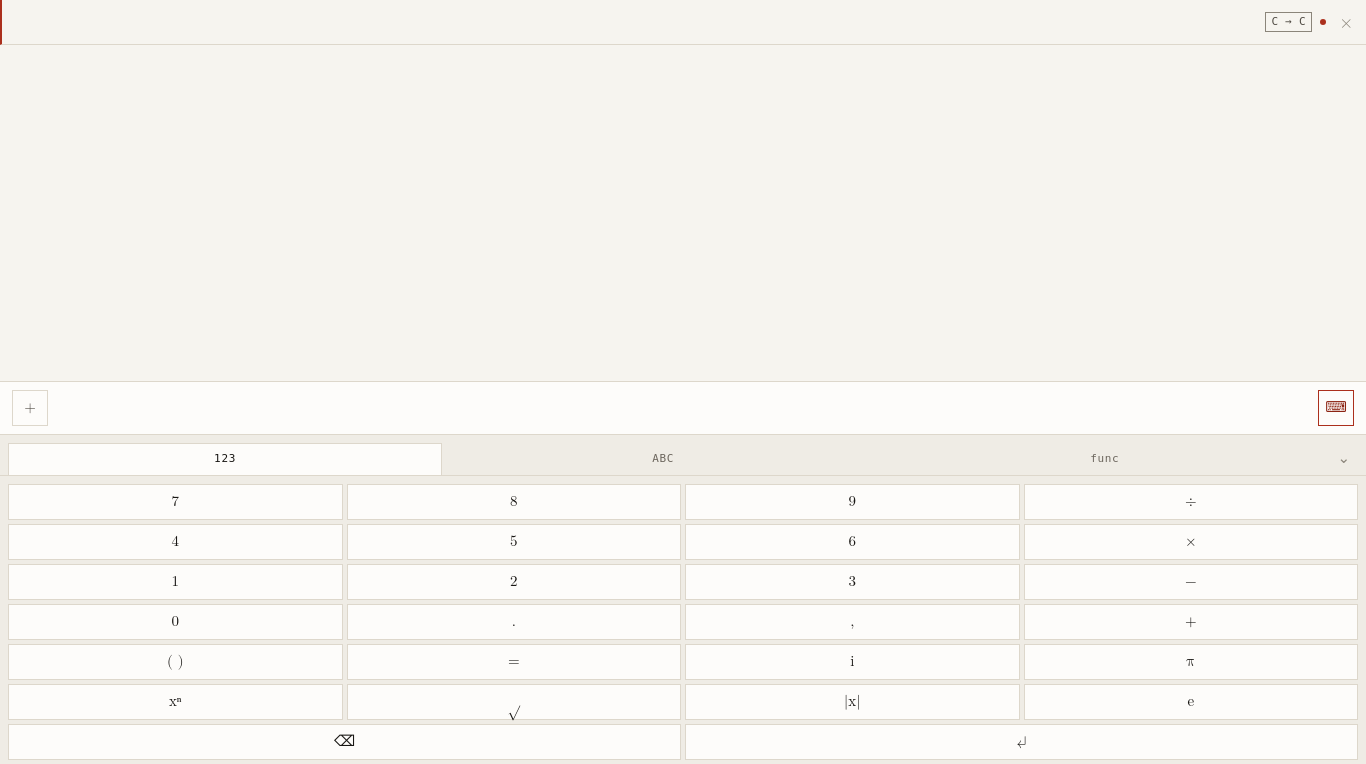
page structure › switches page when a tab is chosen
Step 1. Click the tab "ABC" → (663, 459), box [446,443,880,475]
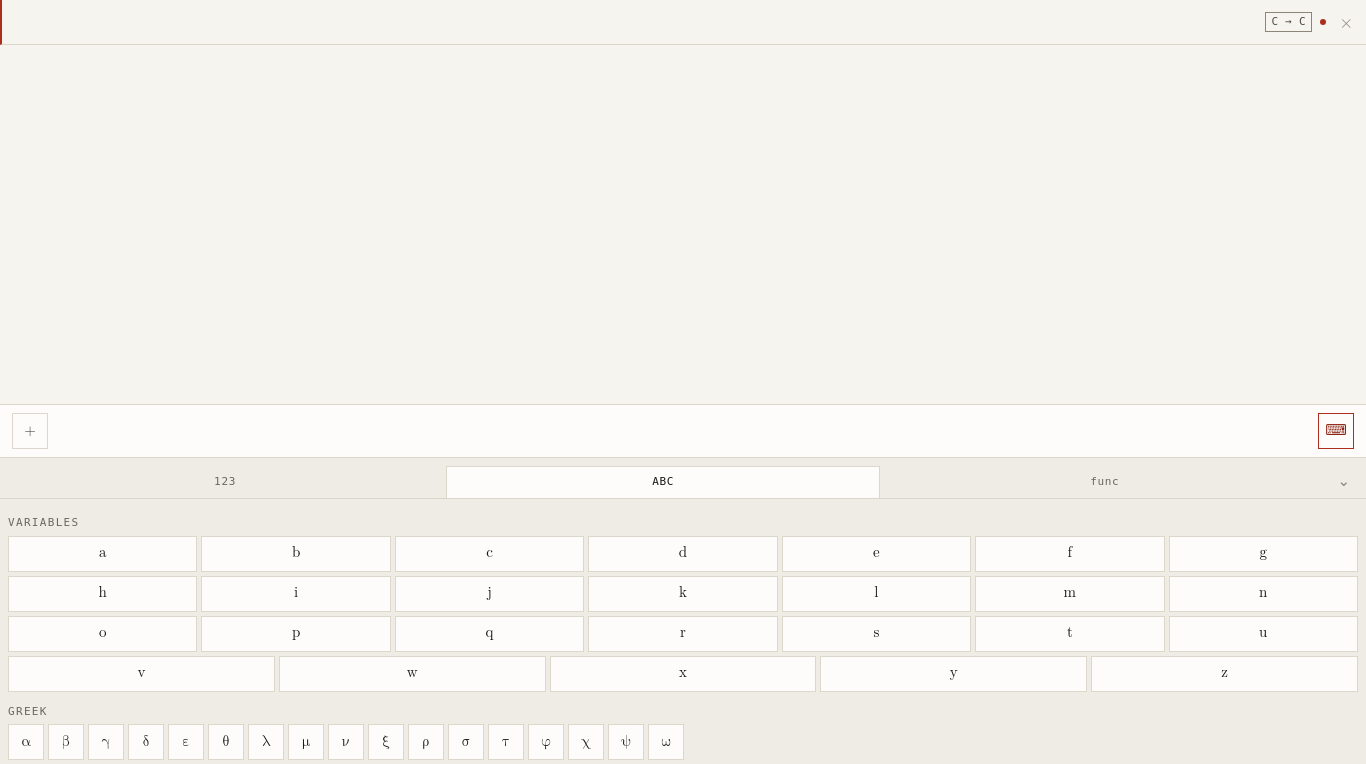
Expected: the button named "The variable a" is shown, [8,536,197,572]
Step 2. Click the tab "func" → (1105, 482), box [884,466,1325,498]
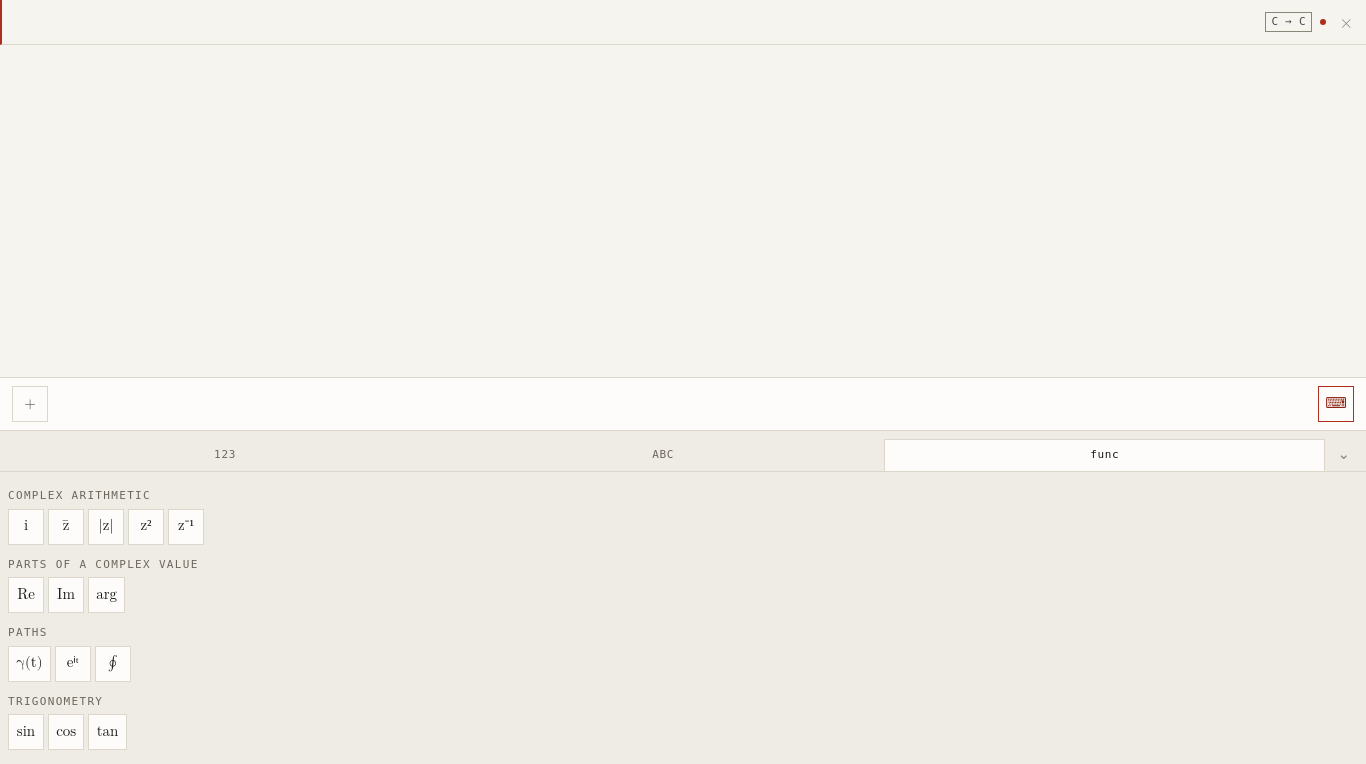
Expected: the button with aria-label "Sine" is shown, [8,714,44,750]
